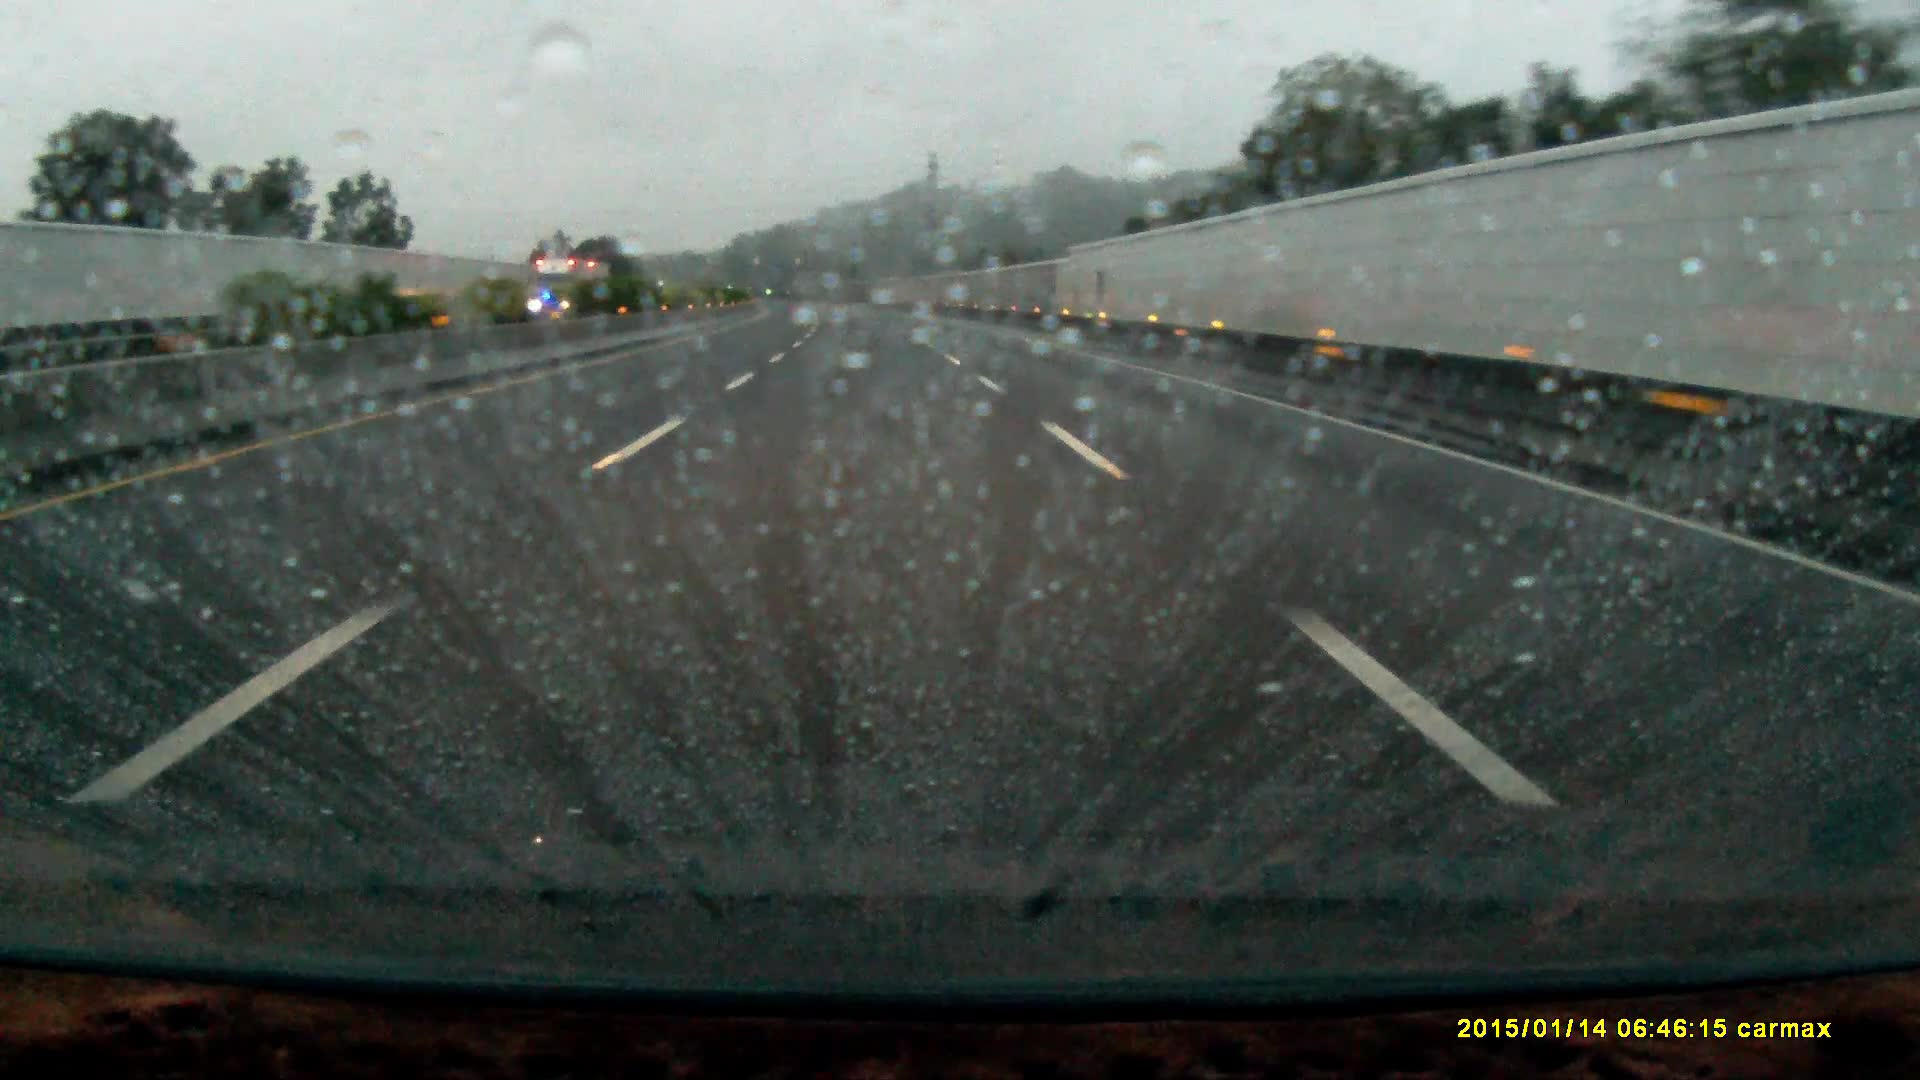vehicle: (531, 255, 611, 313)
